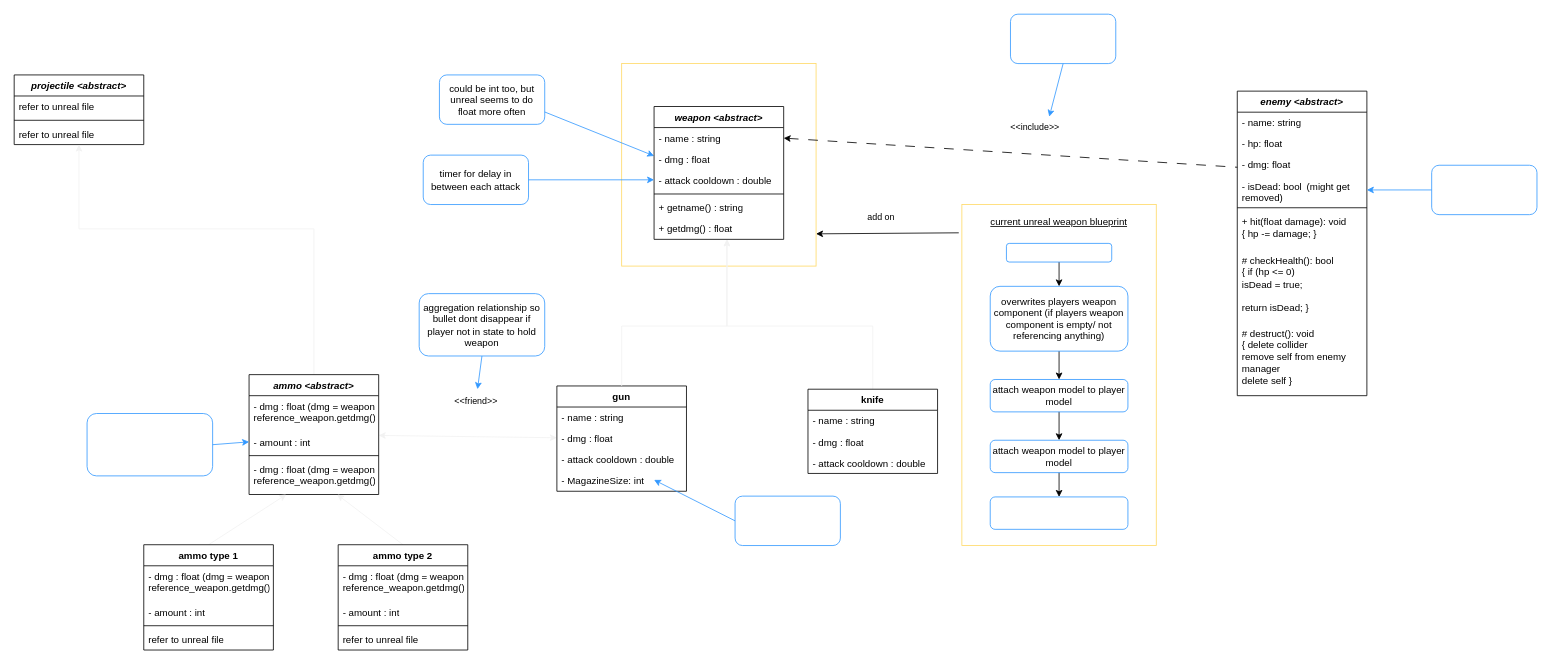
Some shapes in this 1551 by 667 pixel diagram are drawn without their labels. The centre of each missing label's shape, as x and y in pixels:
connect player input to weapon: (x=1058, y=512)
enemy needs to use get dmg function when receiving dmg: (x=1063, y=38)
gets player reference: (x=1059, y=252)
refers to amount of ammo gun can hold at once: (x=787, y=520)
total number of ammo player is holding: (x=149, y=444)
using death to trigger deletion: (x=1484, y=189)
